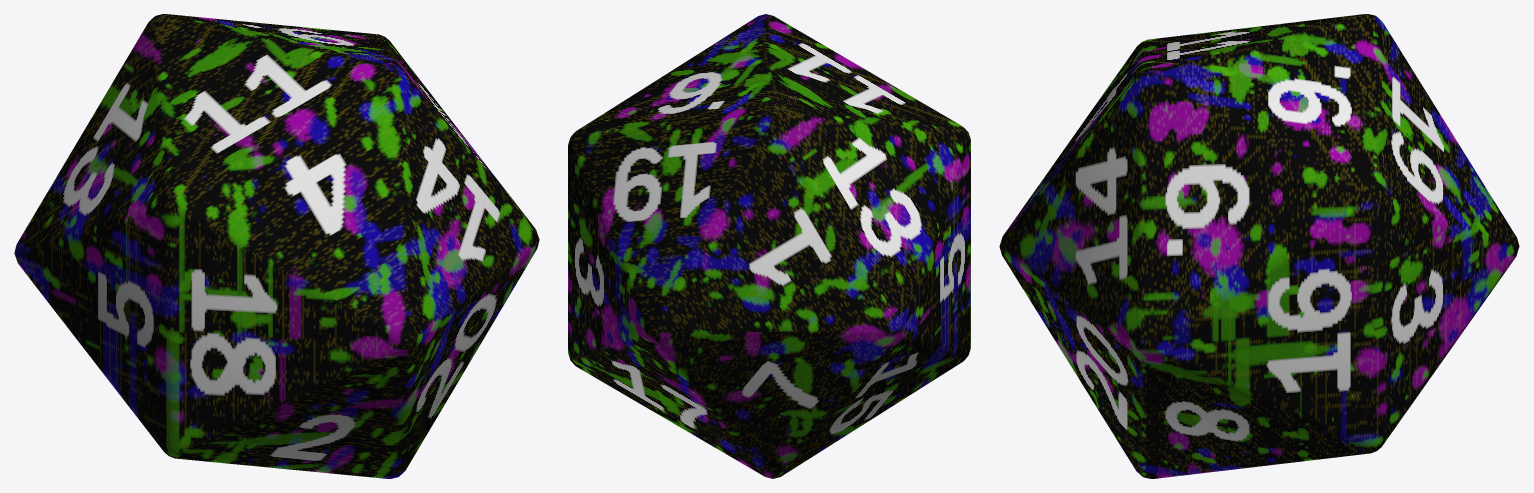
3 views of the same model, side by side, from view 1: azimuth 30°, elevation 25°; view 2: azimuth 150°, elevation 25°; view 3: azimuth 270°, elevation 25° (orthographic). The views are drawn at different scales.
Parts seen in each view (by area): view 1: 20TieDye_20TieDye_0; view 2: 20TieDye_20TieDye_0; view 3: 20TieDye_20TieDye_0.
Part boxes in pixels (<box>): 20TieDye_20TieDye_0: <box>14,14,539,478</box>; 20TieDye_20TieDye_0: <box>568,14,970,478</box>; 20TieDye_20TieDye_0: <box>999,14,1519,478</box>.
Bounding box in the file's own units: 1.77 × 1.69 × 1.97.
Materials: 1 (1 with a texture image).
